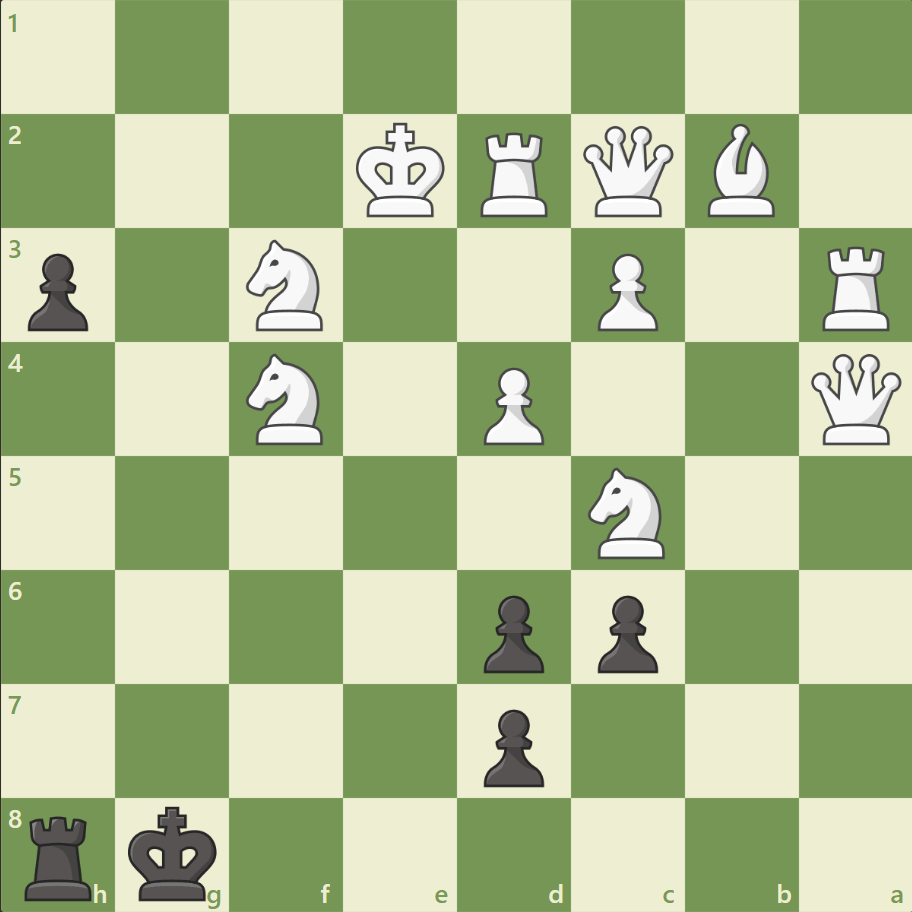B: (698, 120, 782, 222)
K: (351, 117, 451, 225)
N: (579, 461, 676, 564), (238, 234, 335, 337), (238, 348, 335, 450)
P: (474, 359, 549, 450), (588, 246, 662, 337)
Q: (805, 349, 904, 449), (578, 122, 677, 222)
R: (814, 239, 897, 336), (473, 125, 556, 222)
k: (124, 798, 224, 906)
p: (474, 700, 549, 791), (474, 586, 549, 677), (20, 246, 95, 337), (588, 586, 662, 677)
r: (19, 806, 102, 904)
